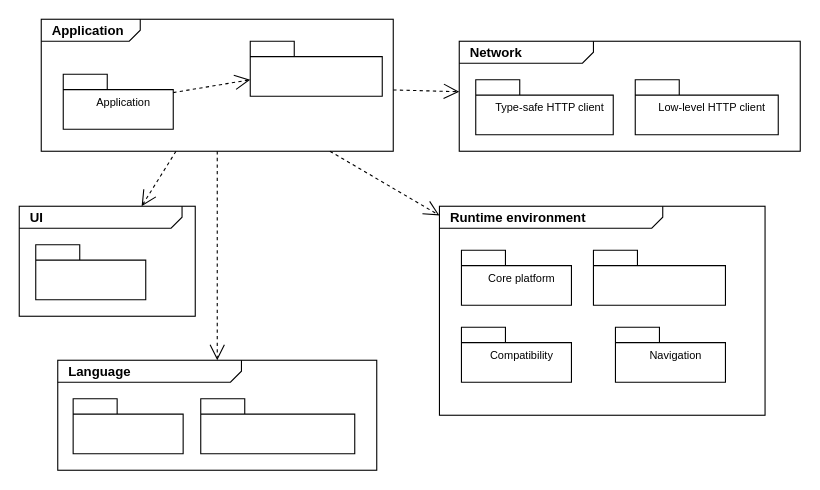
Some shapes in this 820 by 490 pixel diagram are drawn without their labels. Here are the shapes that lost their labels. From the top down, the centre of each, then its label:
At (315,68): "Custom framework".
At (90,272): "UI components".
At (658,277): "Component lifecycle".
At (127,426): "Standard library".
At (277,426): "Asynchronous execution".
